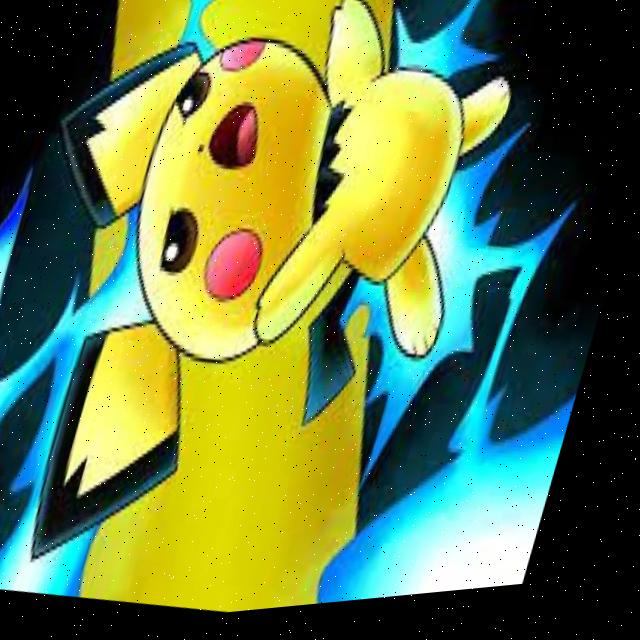pichu: (0, 0, 544, 638)
